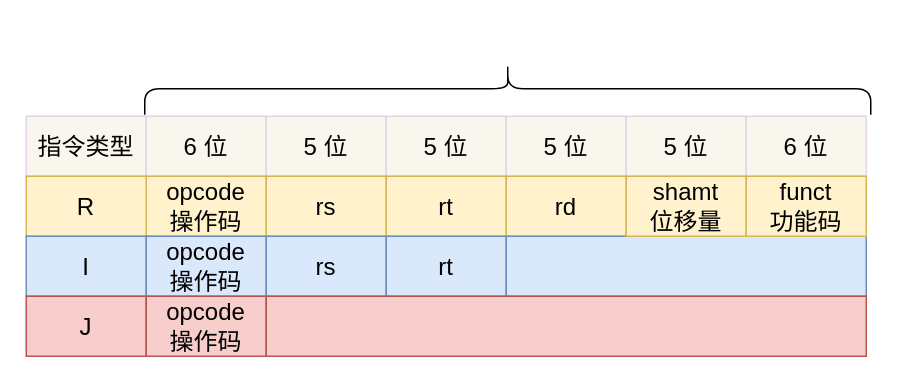
Some shapes in this 897 by 383 pixel diagram are drawn without their labels. The shapes that lost their labels are listed below. From the top down, each one's centre as x and y in pixels, then its label:
(507,88): 32 位
(685,265): address/immediate 地址/立即数
(565,325): target address 目标地址
